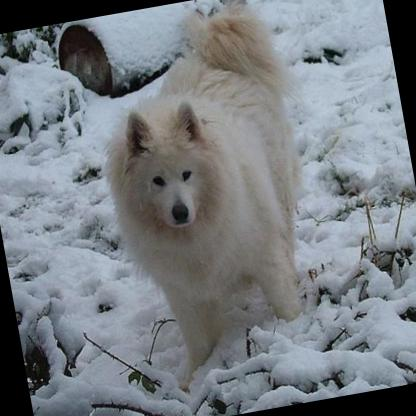Samoyed: (74, 0, 330, 381)
